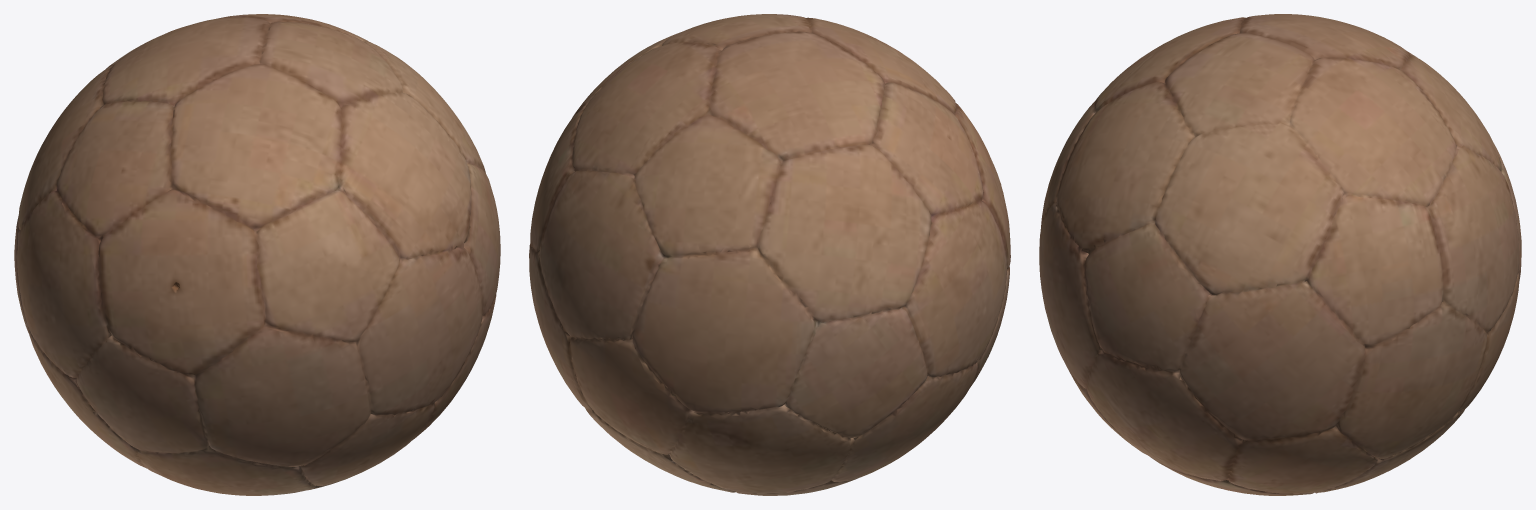
3 views of the same model, side by side, from view 1: azimuth 30°, elevation 25°; view 2: azimuth 150°, elevation 25°; view 3: azimuth 270°, elevation 25° (orthographic).
Parts seen in each view (by area): view 1: dirty_football; view 2: dirty_football; view 3: dirty_football.
Part boxes in pixels (bbox=[...]): dirty_football: bbox=[14, 14, 500, 495]; dirty_football: bbox=[529, 14, 1010, 495]; dirty_football: bbox=[1039, 14, 1521, 495].
Bounding box in the file's own units: 0.2214 × 0.22 × 0.22.
Materials: 1 (1 with a texture image).
